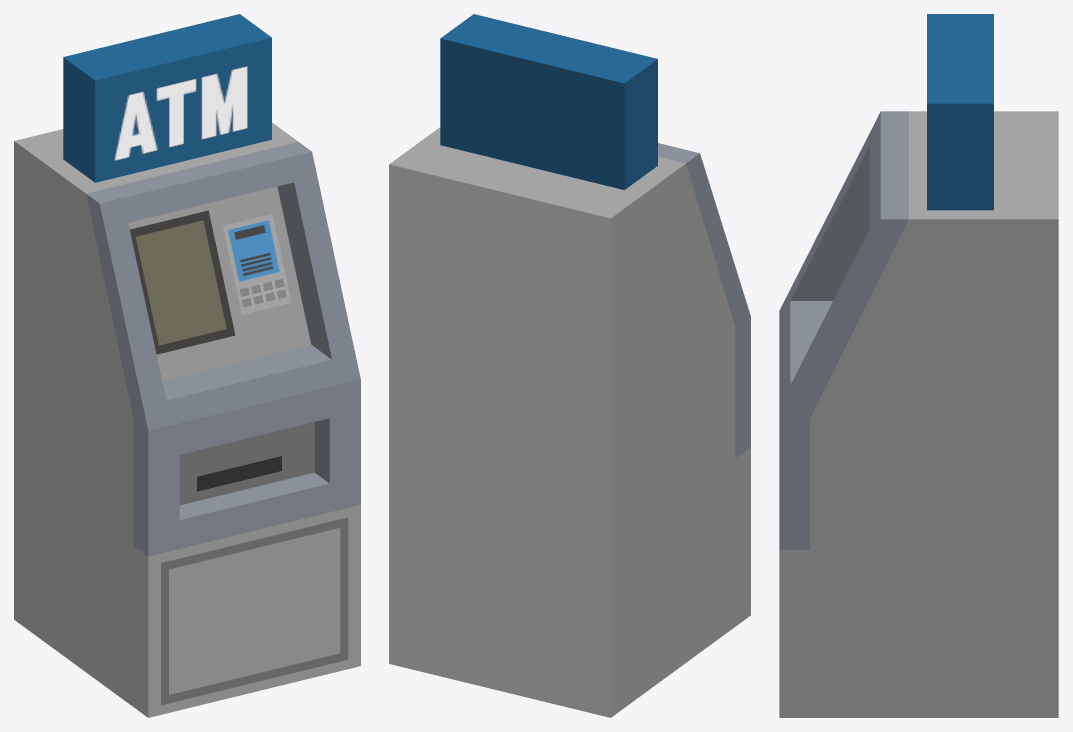
Rendered from BankAtm.glb.
3 views of the same model, side by side, from view 1: azimuth 30°, elevation 25°; view 2: azimuth 150°, elevation 25°; view 3: azimuth 270°, elevation 25° (orthographic). The views are drawn at different scales.
Visible parts, largest first — view 1: SI_Prop_ATM_01; view 2: SI_Prop_ATM_01; view 3: SI_Prop_ATM_01.
Part boxes in pixels (bbox=[...]): SI_Prop_ATM_01: bbox=[14, 14, 360, 717]; SI_Prop_ATM_01: bbox=[389, 14, 750, 717]; SI_Prop_ATM_01: bbox=[779, 14, 1058, 717].
Bounding box in the file's own units: 0.0119 × 0.0312 × 0.0131.
1 material, 1 textured.
